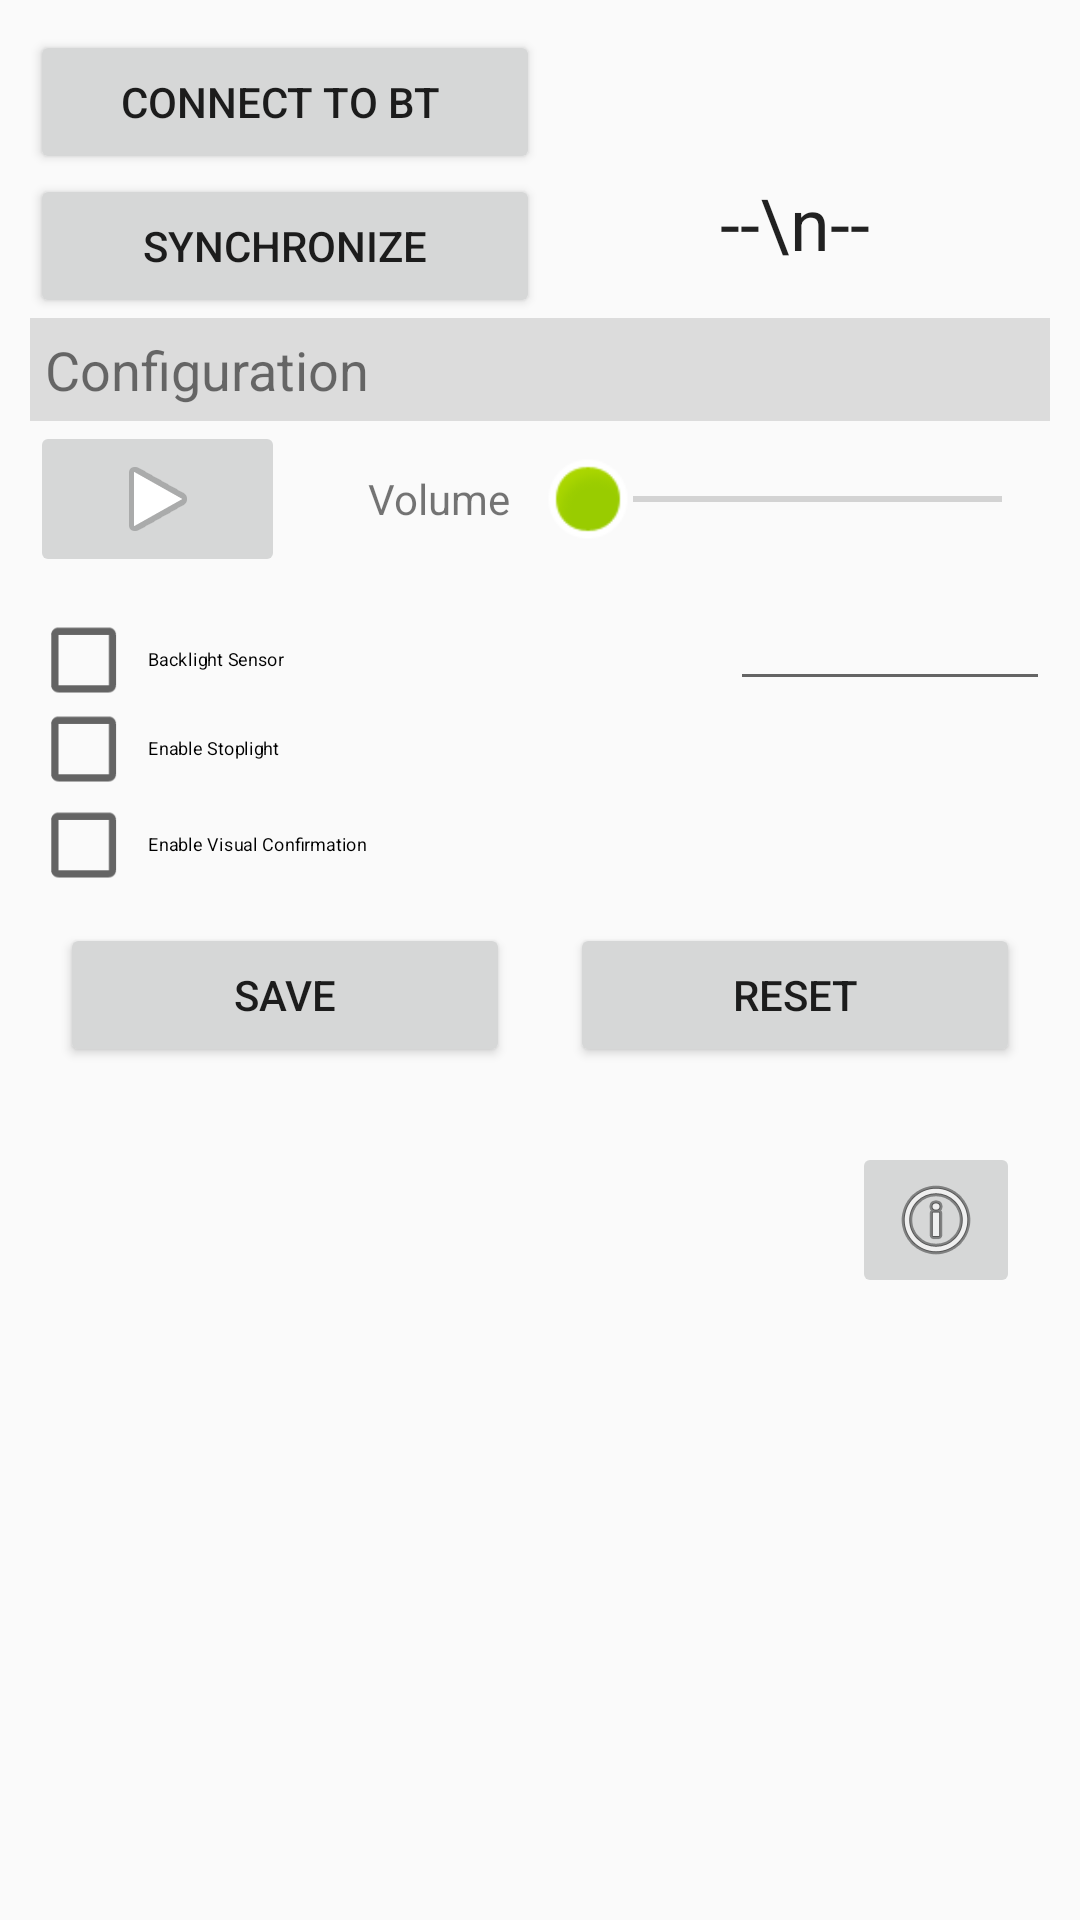

Icons on this 1080×1920 Android screen, each with the point to tap as (x=x, y=y):
info details: (x=936, y=1220)
play: (x=157, y=499)
